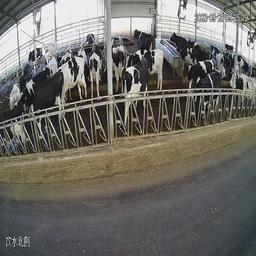cow: (34, 73, 63, 145), (127, 57, 154, 124), (3, 103, 28, 159), (61, 56, 90, 104), (195, 71, 224, 116), (230, 69, 255, 112), (110, 35, 127, 95), (89, 41, 106, 101), (171, 31, 197, 66), (132, 24, 154, 52), (184, 63, 219, 80), (155, 48, 166, 97), (210, 41, 226, 71), (40, 37, 58, 61), (17, 61, 32, 86), (28, 43, 40, 65)
